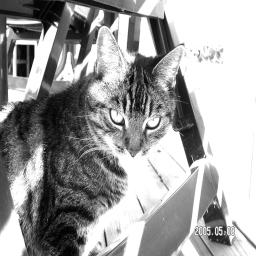catnose: (125, 142, 144, 160)
